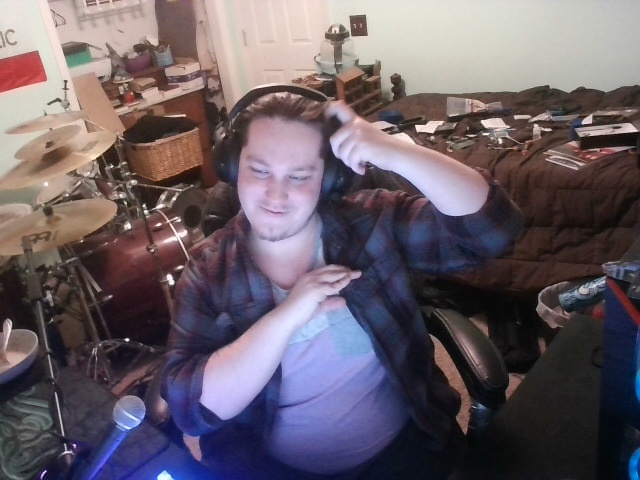police: (283, 251, 381, 339)
